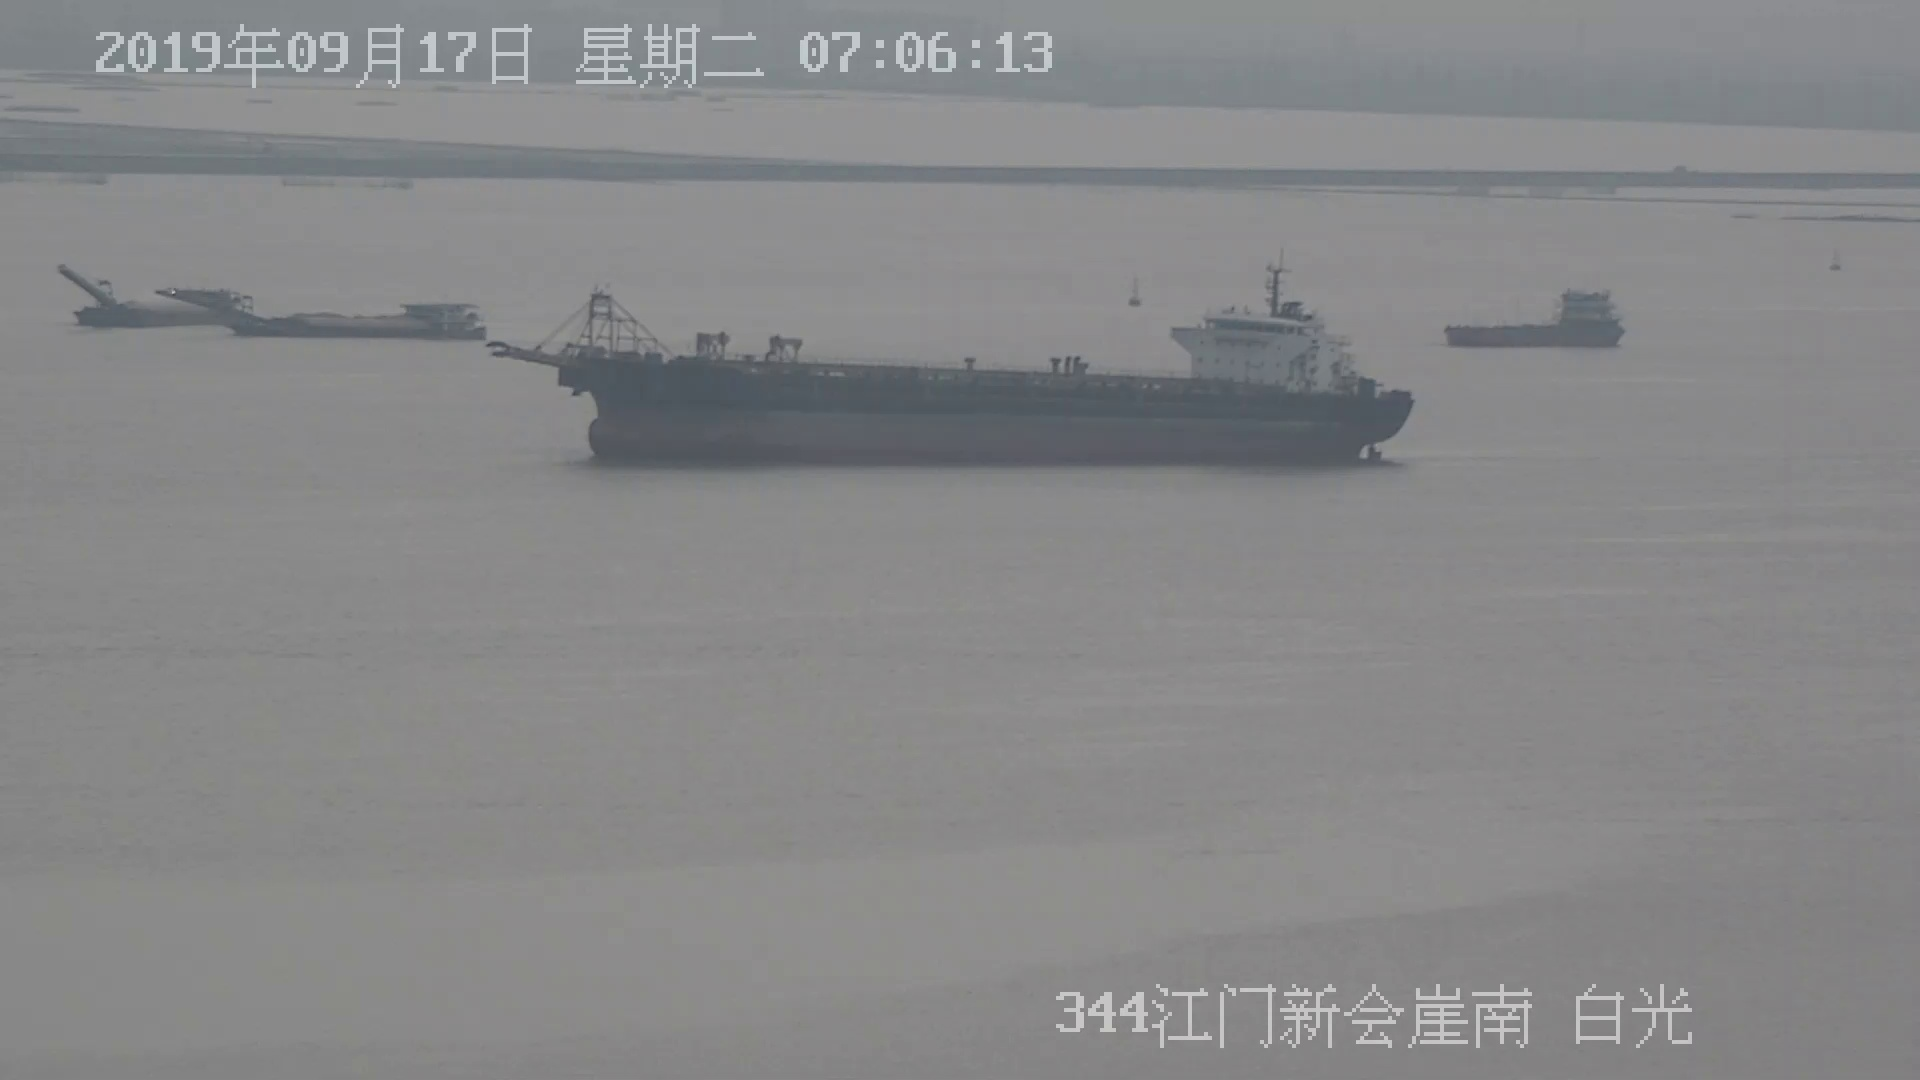ship: (487, 284, 1416, 459), (158, 276, 488, 338), (63, 261, 258, 324), (1445, 290, 1626, 348)
